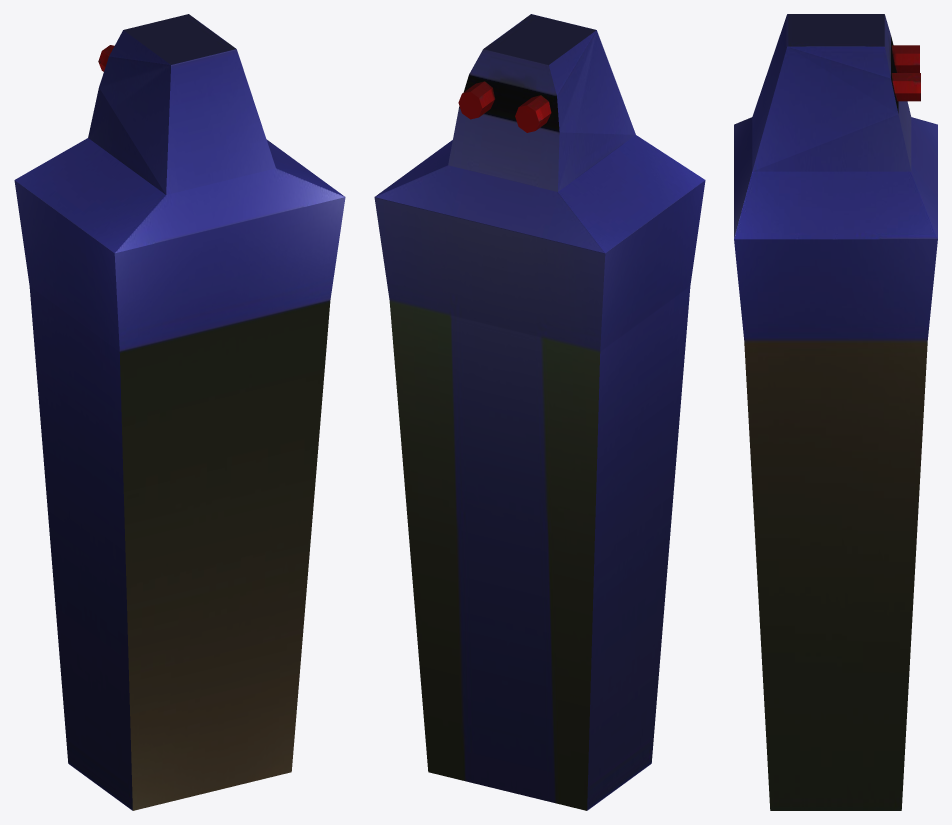
File: superdoublebaker3.dae
The picture shows the model from 3 angles, left to right: view 1: azimuth 30°, elevation 25°; view 2: azimuth 150°, elevation 25°; view 3: azimuth 270°, elevation 25°; orthographic projection.
Visible parts, largest first — view 1: worker; view 2: worker; view 3: worker.
Boxes of the visible parts, x1,y1,x2,y2 form: worker: (14,14,345,810); worker: (374,14,705,810); worker: (734,14,937,810).
Size of the model in its own units: 2 by 1.5 by 6.02.
Materials: 1 (1 with a texture image).
